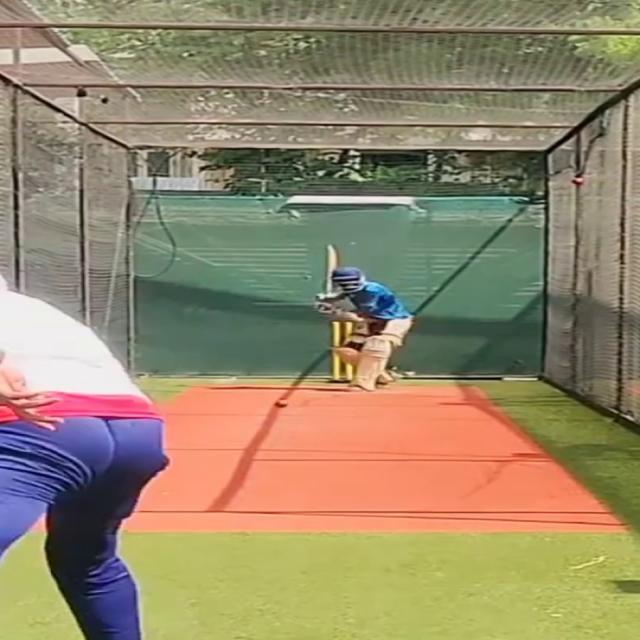ball: (273, 398, 288, 407)
stump: (328, 321, 354, 381)
